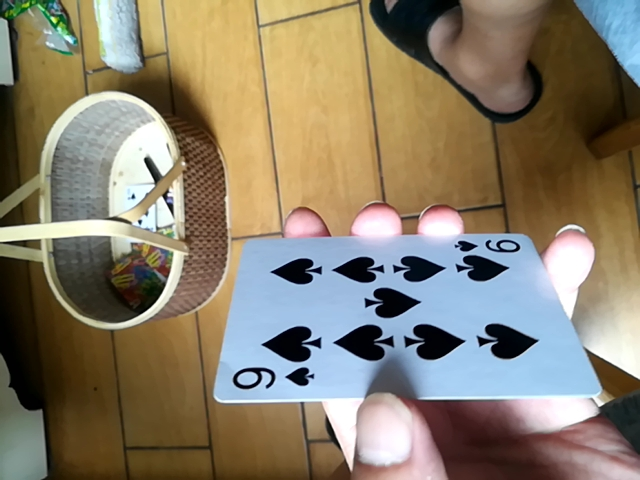ht 9: (214, 220, 593, 406)
